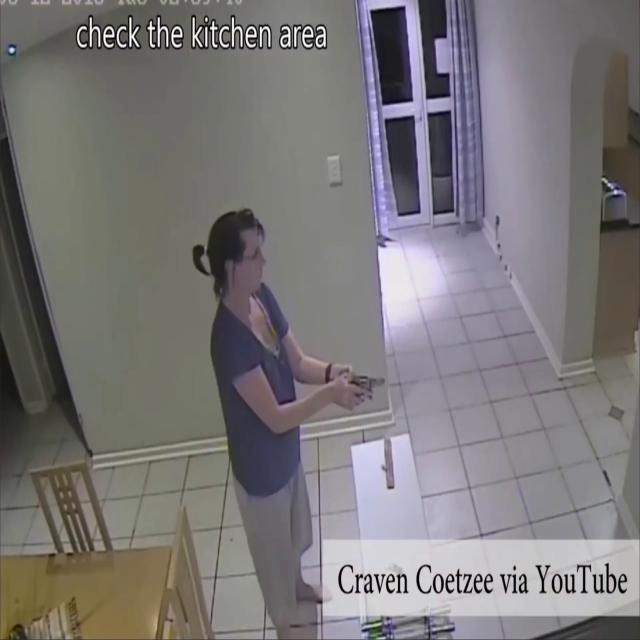gun: (343, 369, 385, 403)
